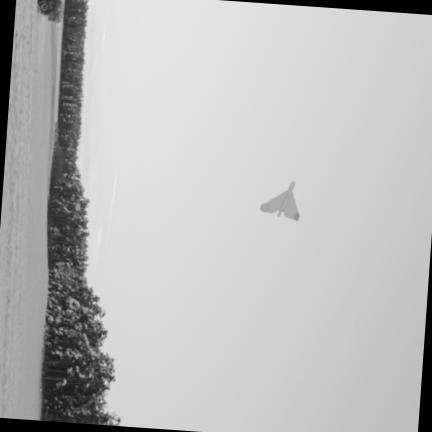Shahed: (259, 181, 298, 220)
